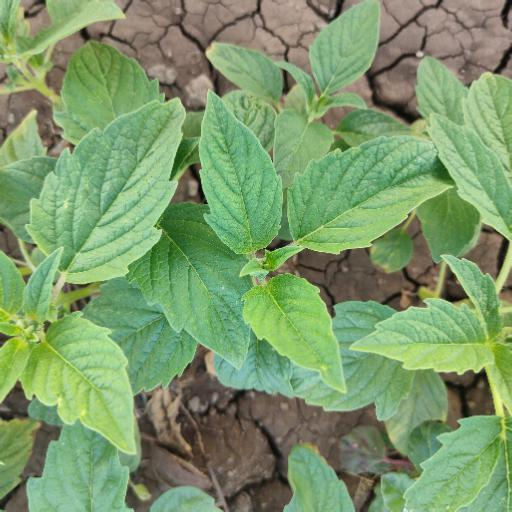crop: (7, 19, 503, 487)
